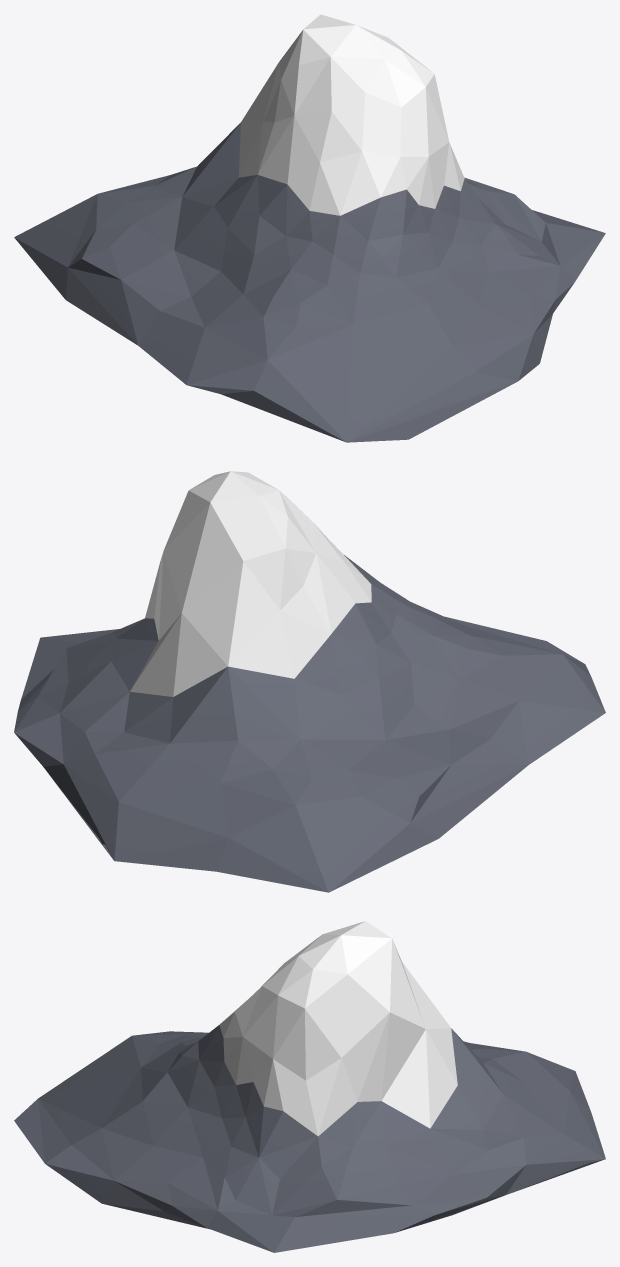
File: Mountain_03.fbx
3 renders of one model, top to bottom at view 1: azimuth 30°, elevation 25°; view 2: azimuth 150°, elevation 25°; view 3: azimuth 270°, elevation 25°, orthographic. The views are drawn at different scales.
Visible parts, largest first — view 1: Mountain_03; view 2: Mountain_03; view 3: Mountain_03.
Boxes of the visible parts, bbox=[...] form: Mountain_03: bbox=[14, 14, 605, 442]; Mountain_03: bbox=[14, 471, 605, 892]; Mountain_03: bbox=[14, 921, 605, 1252].
Size of the model in its own units: 69.8 by 36.36 by 80.37.
